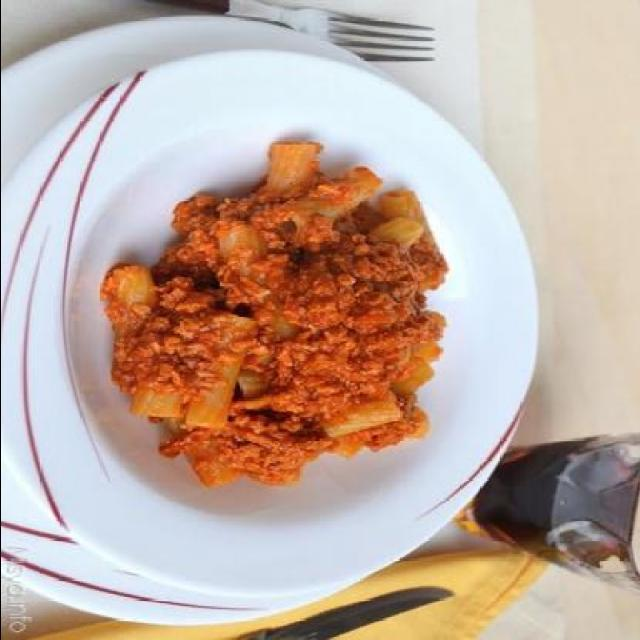Pasta al ragu: (83, 126, 477, 540)
